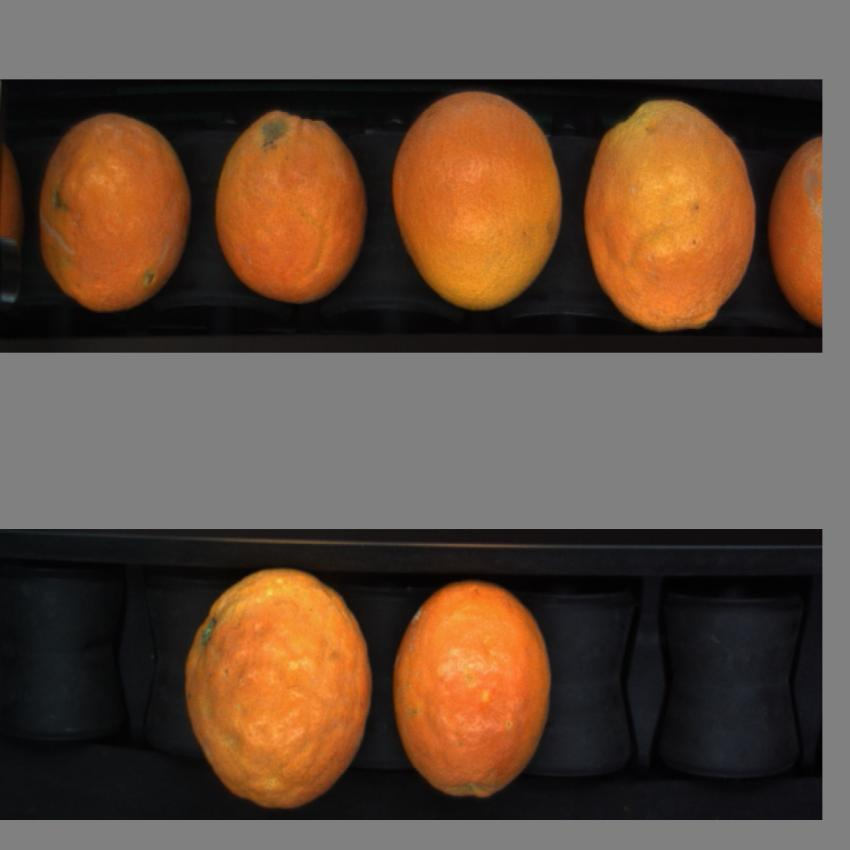Buen estado: (177, 558, 375, 812), (582, 95, 767, 335), (392, 574, 559, 819), (390, 87, 569, 315), (766, 124, 822, 332)
Mal estado: (38, 116, 198, 315), (215, 112, 376, 307)
